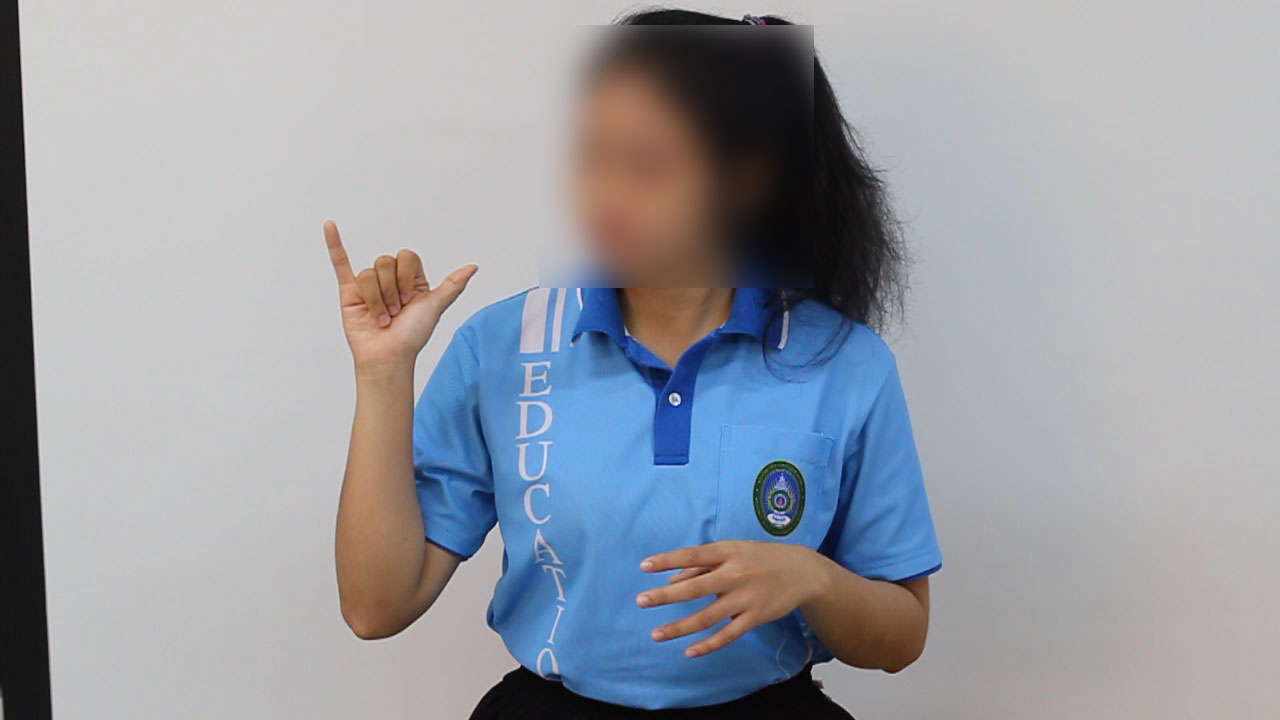yor: (308, 209, 487, 382)
